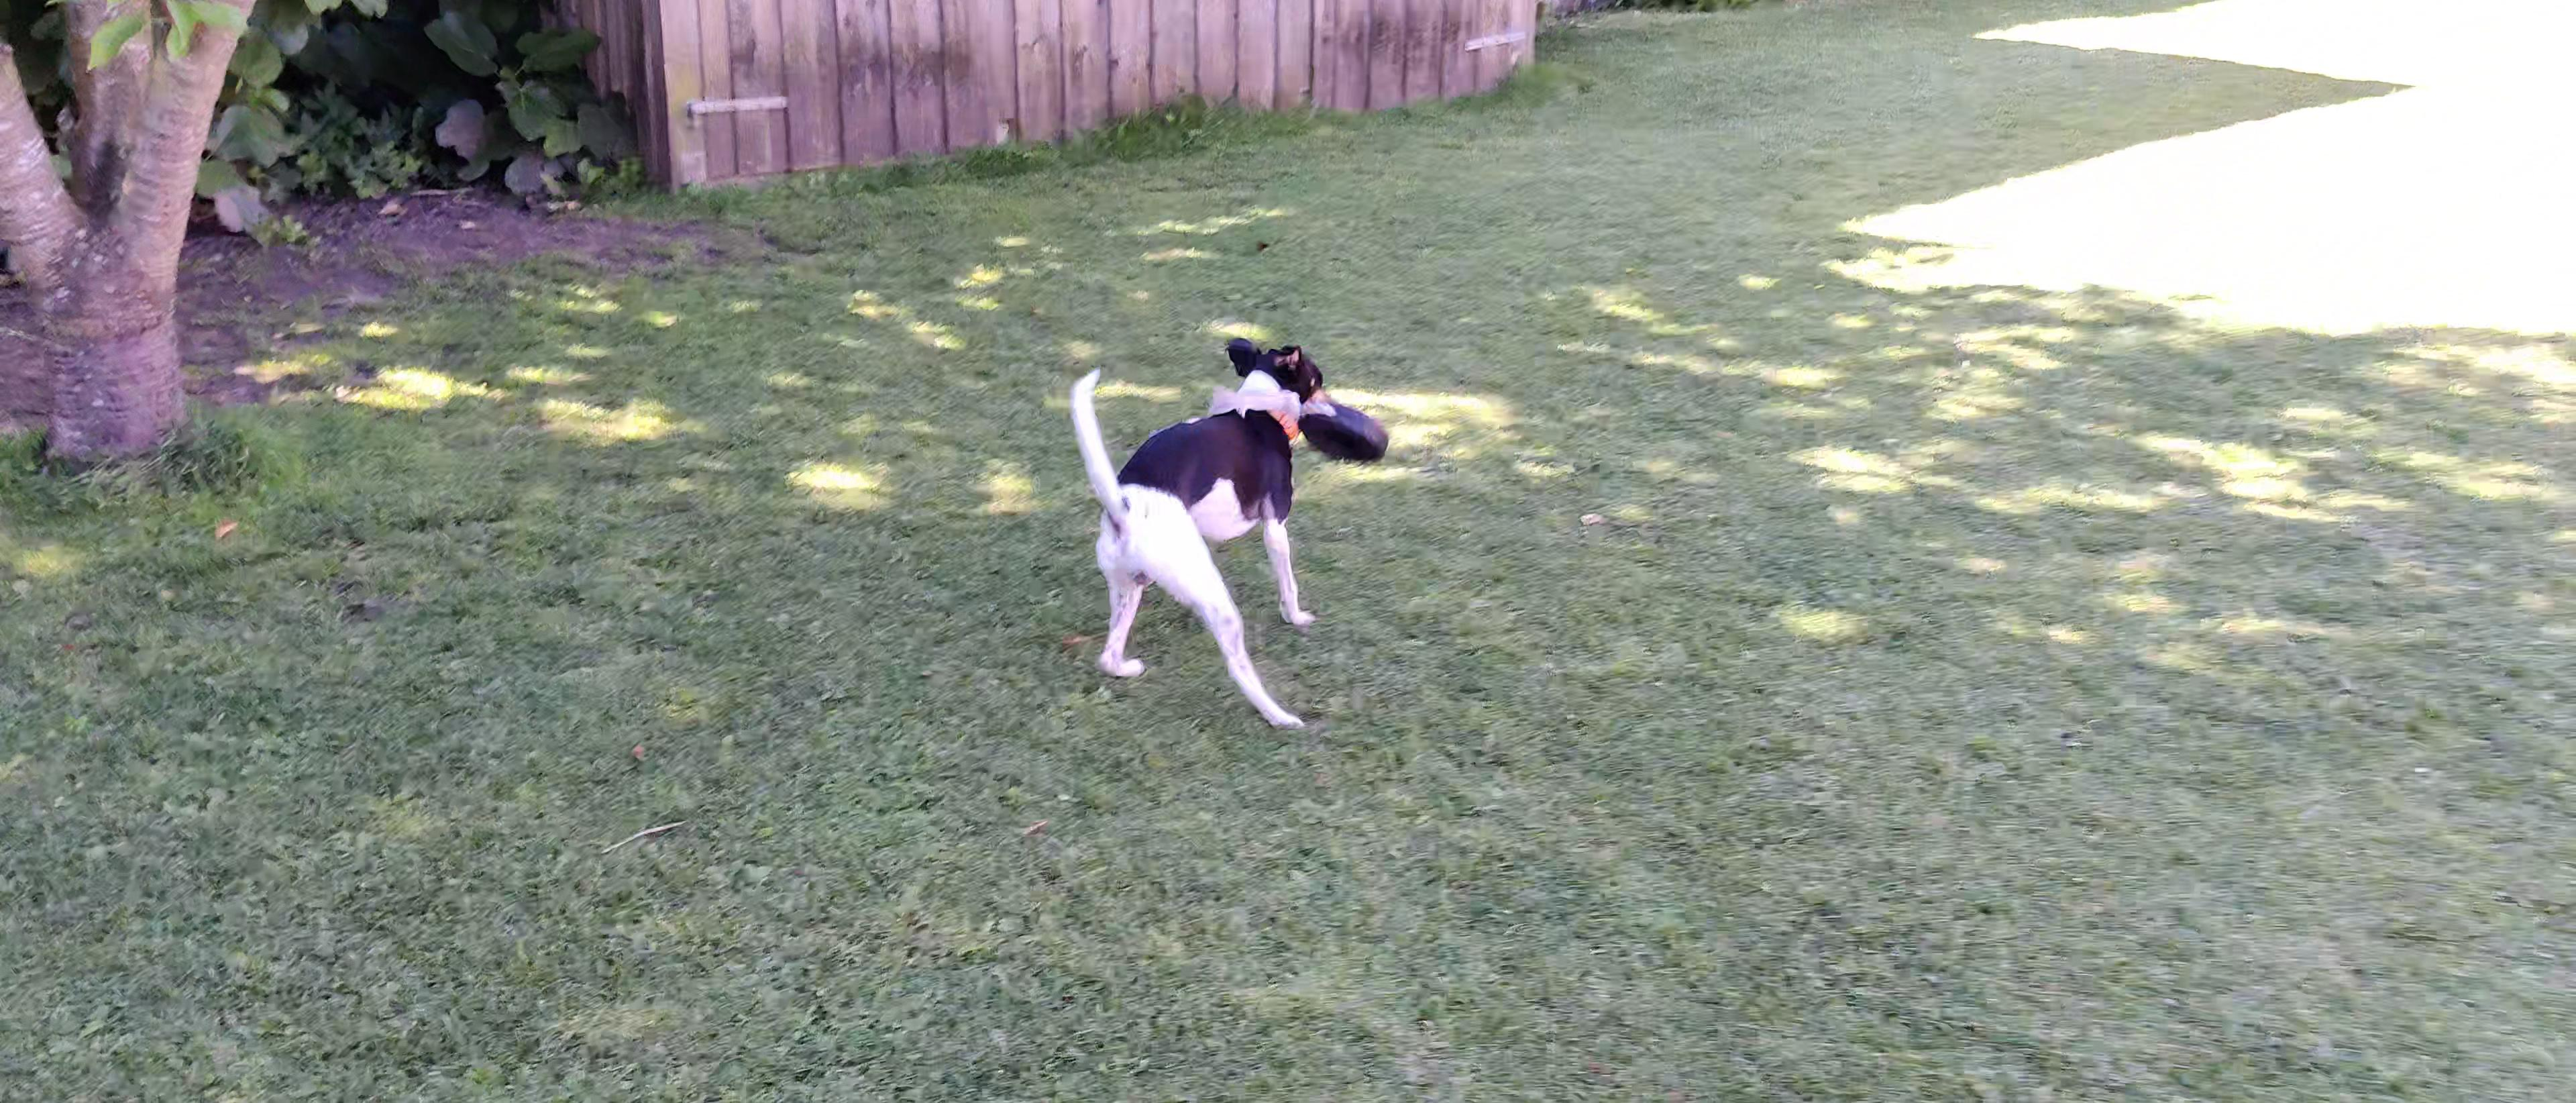Dog: (1063, 332, 1344, 736)
